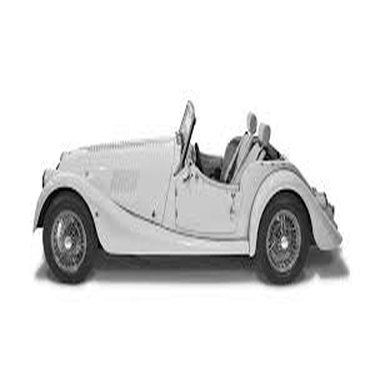car: (19, 94, 339, 290)
